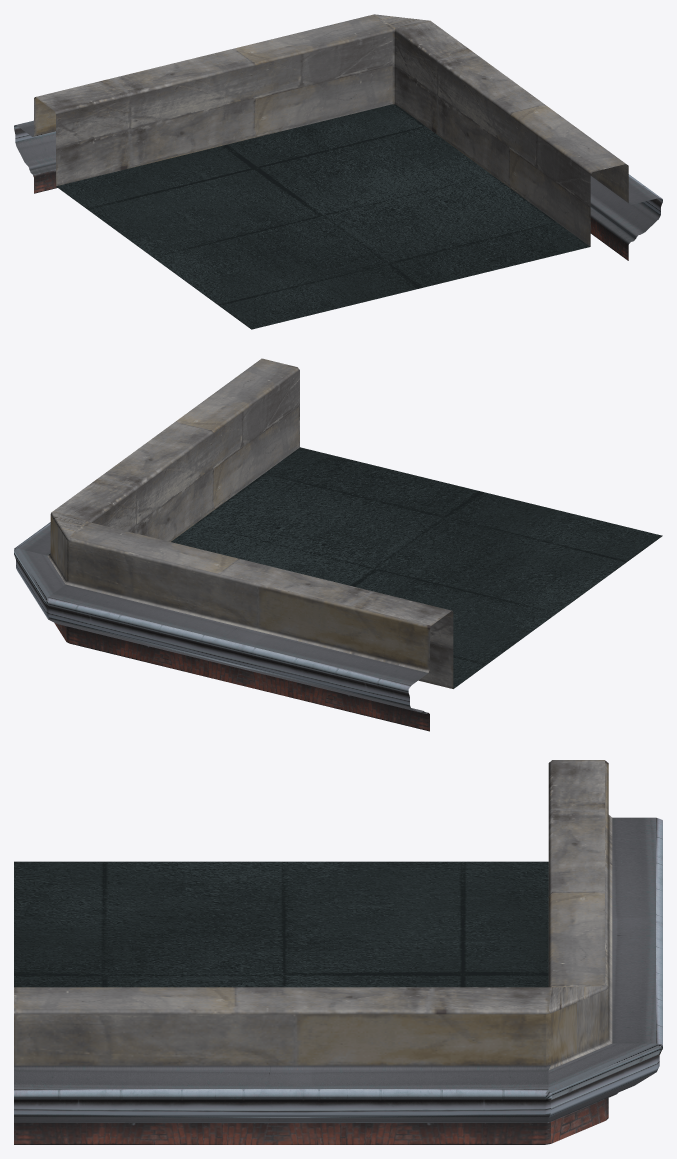
The model's file is ceiling corner.glb.
The picture shows the model from 3 angles, top to bottom: view 1: azimuth 30°, elevation 25°; view 2: azimuth 150°, elevation 25°; view 3: azimuth 270°, elevation 25°; orthographic projection. The views are drawn at different scales.
Visible parts, largest first — view 1: 13-0-R_Corner; view 2: 13-0-R_Corner; view 3: 13-0-R_Corner.
Part boxes in pixels (box(x1,y1,x2,y2)): 13-0-R_Corner: box(14, 14, 662, 329); 13-0-R_Corner: box(14, 358, 662, 731); 13-0-R_Corner: box(14, 760, 662, 1144).
Bounding box in the file's own units: 1.3 × 0.295 × 1.3.
Materials: 3 (3 with a texture image).
